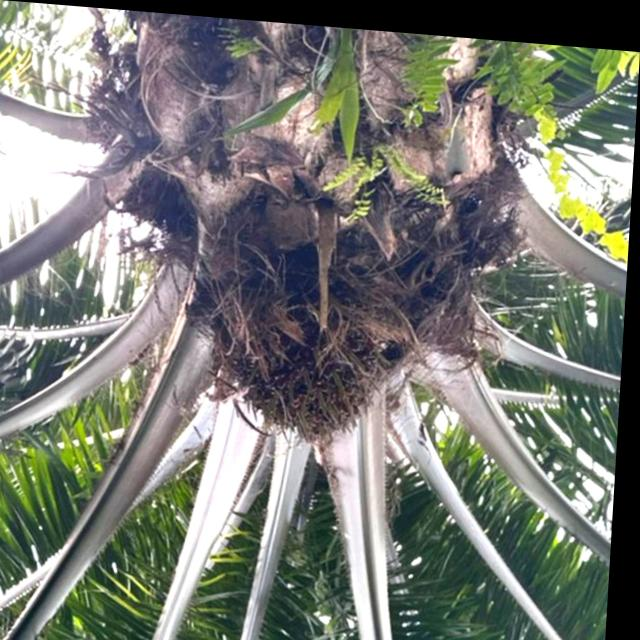ripe: (208, 284, 412, 469)
